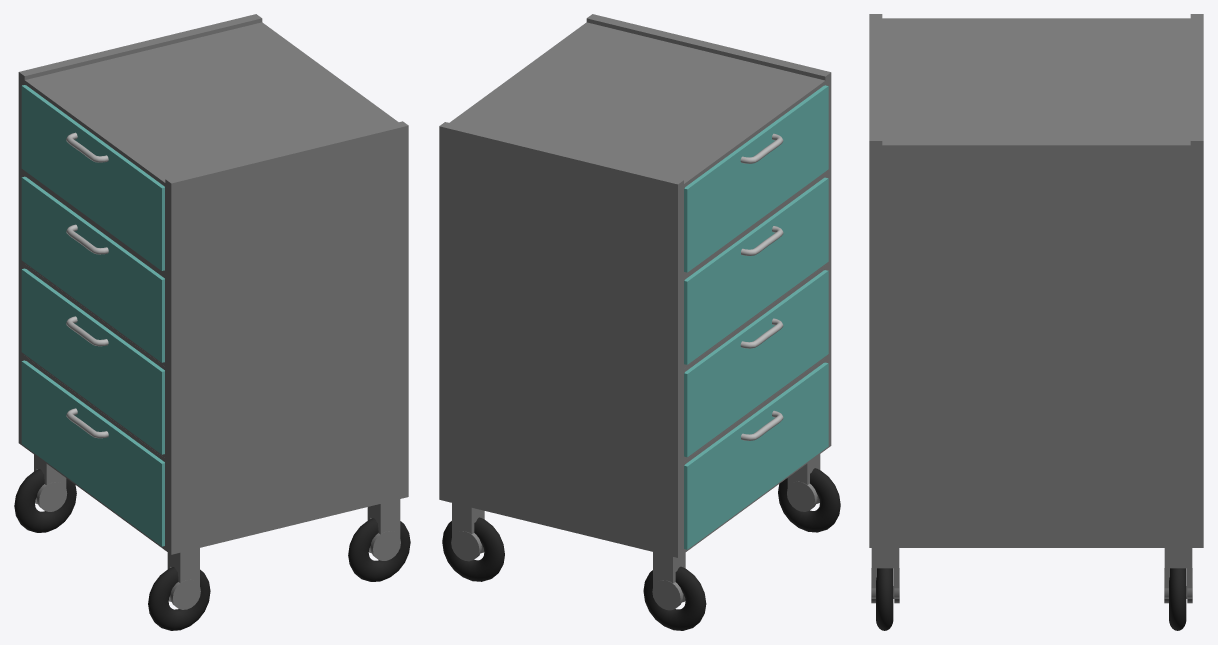
File: Blue and Gray Drawers.fbx
3 views of the same model, side by side, from view 1: azimuth 30°, elevation 25°; view 2: azimuth 150°, elevation 25°; view 3: azimuth 270°, elevation 25° (orthographic). The views are drawn at different scales.
Visible parts, largest first — view 1: Surgery_side_table_leg_10, Surgery_side_table_leg_15, Surgery_side_table_leg_14, Surgery_side_table_leg_12, Surgery_side_table_leg_16, Surgery_side_table_leg_18, Drugery_table_hio2 (×3), Surgery_side_table_leg_9, pCylinder9 (×3), Surgery_side_table_leg_19 (×2), Surgery_side_table_leg_13, Surgery_side_table_leg_11 (+1 smaller); view 2: Surgery_side_table_leg_9, Surgery_side_table_leg_15, Surgery_side_table_leg_12, Surgery_side_table_leg_16, Surgery_side_table_leg_14, Surgery_side_table_leg_18, Drugery_table_hio2 (×3), Surgery_side_table_leg_10, pCylinder8 (×3), Surgery_side_table_leg_19 (×2), Surgery_side_table_leg_13, Surgery_side_table_leg_11 (+1 smaller); view 3: Surgery_side_table_leg_15, Surgery_side_table_leg_11, Surgery_side_table_leg_17, Surgery_side_table_leg_13, Surgery_side_table_leg_9, Surgery_side_table_leg_10, Drugery_table_hio2 (×2), Surgery_side_table_leg_19 (×2).
Boxes of the visible parts, box(x1,y1,x2,y2) form: Surgery_side_table_leg_10: box(165, 121, 408, 554); Surgery_side_table_leg_15: box(24, 22, 398, 274); Surgery_side_table_leg_14: box(21, 360, 164, 546); Surgery_side_table_leg_12: box(21, 268, 164, 454); Surgery_side_table_leg_16: box(21, 85, 164, 270); Surgery_side_table_leg_18: box(21, 176, 164, 362); Drugery_table_hio2 (×3): box(14, 469, 410, 630); Surgery_side_table_leg_9: box(18, 14, 262, 447); pCylinder9 (×3): box(36, 482, 400, 609); Surgery_side_table_leg_19 (×2): box(167, 499, 400, 585); Surgery_side_table_leg_13: box(24, 356, 165, 549); Surgery_side_table_leg_11: box(24, 264, 165, 458); Surgery_side_table_leg_9: box(439, 122, 683, 557); Surgery_side_table_leg_15: box(449, 22, 825, 276); Surgery_side_table_leg_12: box(684, 270, 828, 457); Surgery_side_table_leg_16: box(684, 85, 828, 272); Surgery_side_table_leg_14: box(684, 362, 828, 549); Surgery_side_table_leg_18: box(684, 177, 828, 364); Drugery_table_hio2 (×3): box(442, 468, 840, 630); Surgery_side_table_leg_10: box(586, 14, 831, 449); pCylinder8 (×3): box(451, 481, 817, 610); Surgery_side_table_leg_19 (×2): box(452, 503, 685, 597); Surgery_side_table_leg_13: box(684, 358, 825, 553); Surgery_side_table_leg_11: box(684, 265, 825, 460); Surgery_side_table_leg_15: box(877, 18, 1194, 245); Surgery_side_table_leg_11: box(877, 346, 1194, 447); Surgery_side_table_leg_17: box(877, 246, 1194, 346); Surgery_side_table_leg_13: box(882, 447, 1194, 547); Surgery_side_table_leg_9: box(1190, 14, 1203, 547); Surgery_side_table_leg_10: box(869, 14, 882, 547); Drugery_table_hio2 (×2): box(876, 568, 1186, 630); Surgery_side_table_leg_19 (×2): box(871, 548, 1192, 598).
Size of the model in its own units: 4.29 by 7.15 by 4.34.
